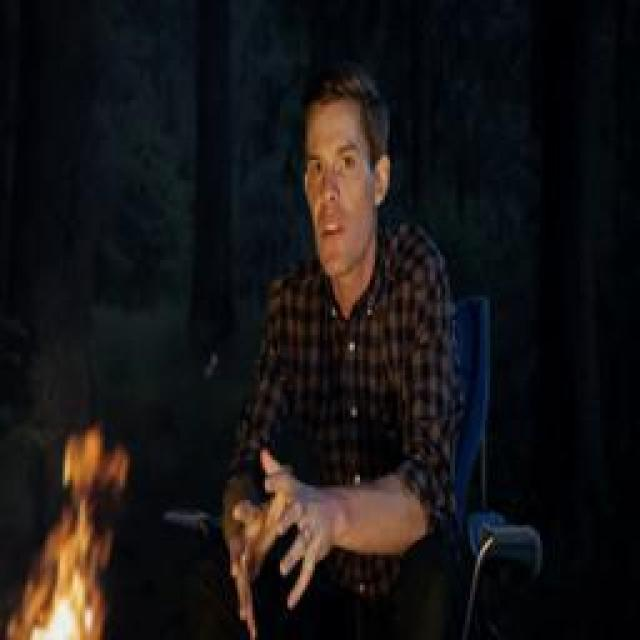Fire: (8, 430, 132, 640)
